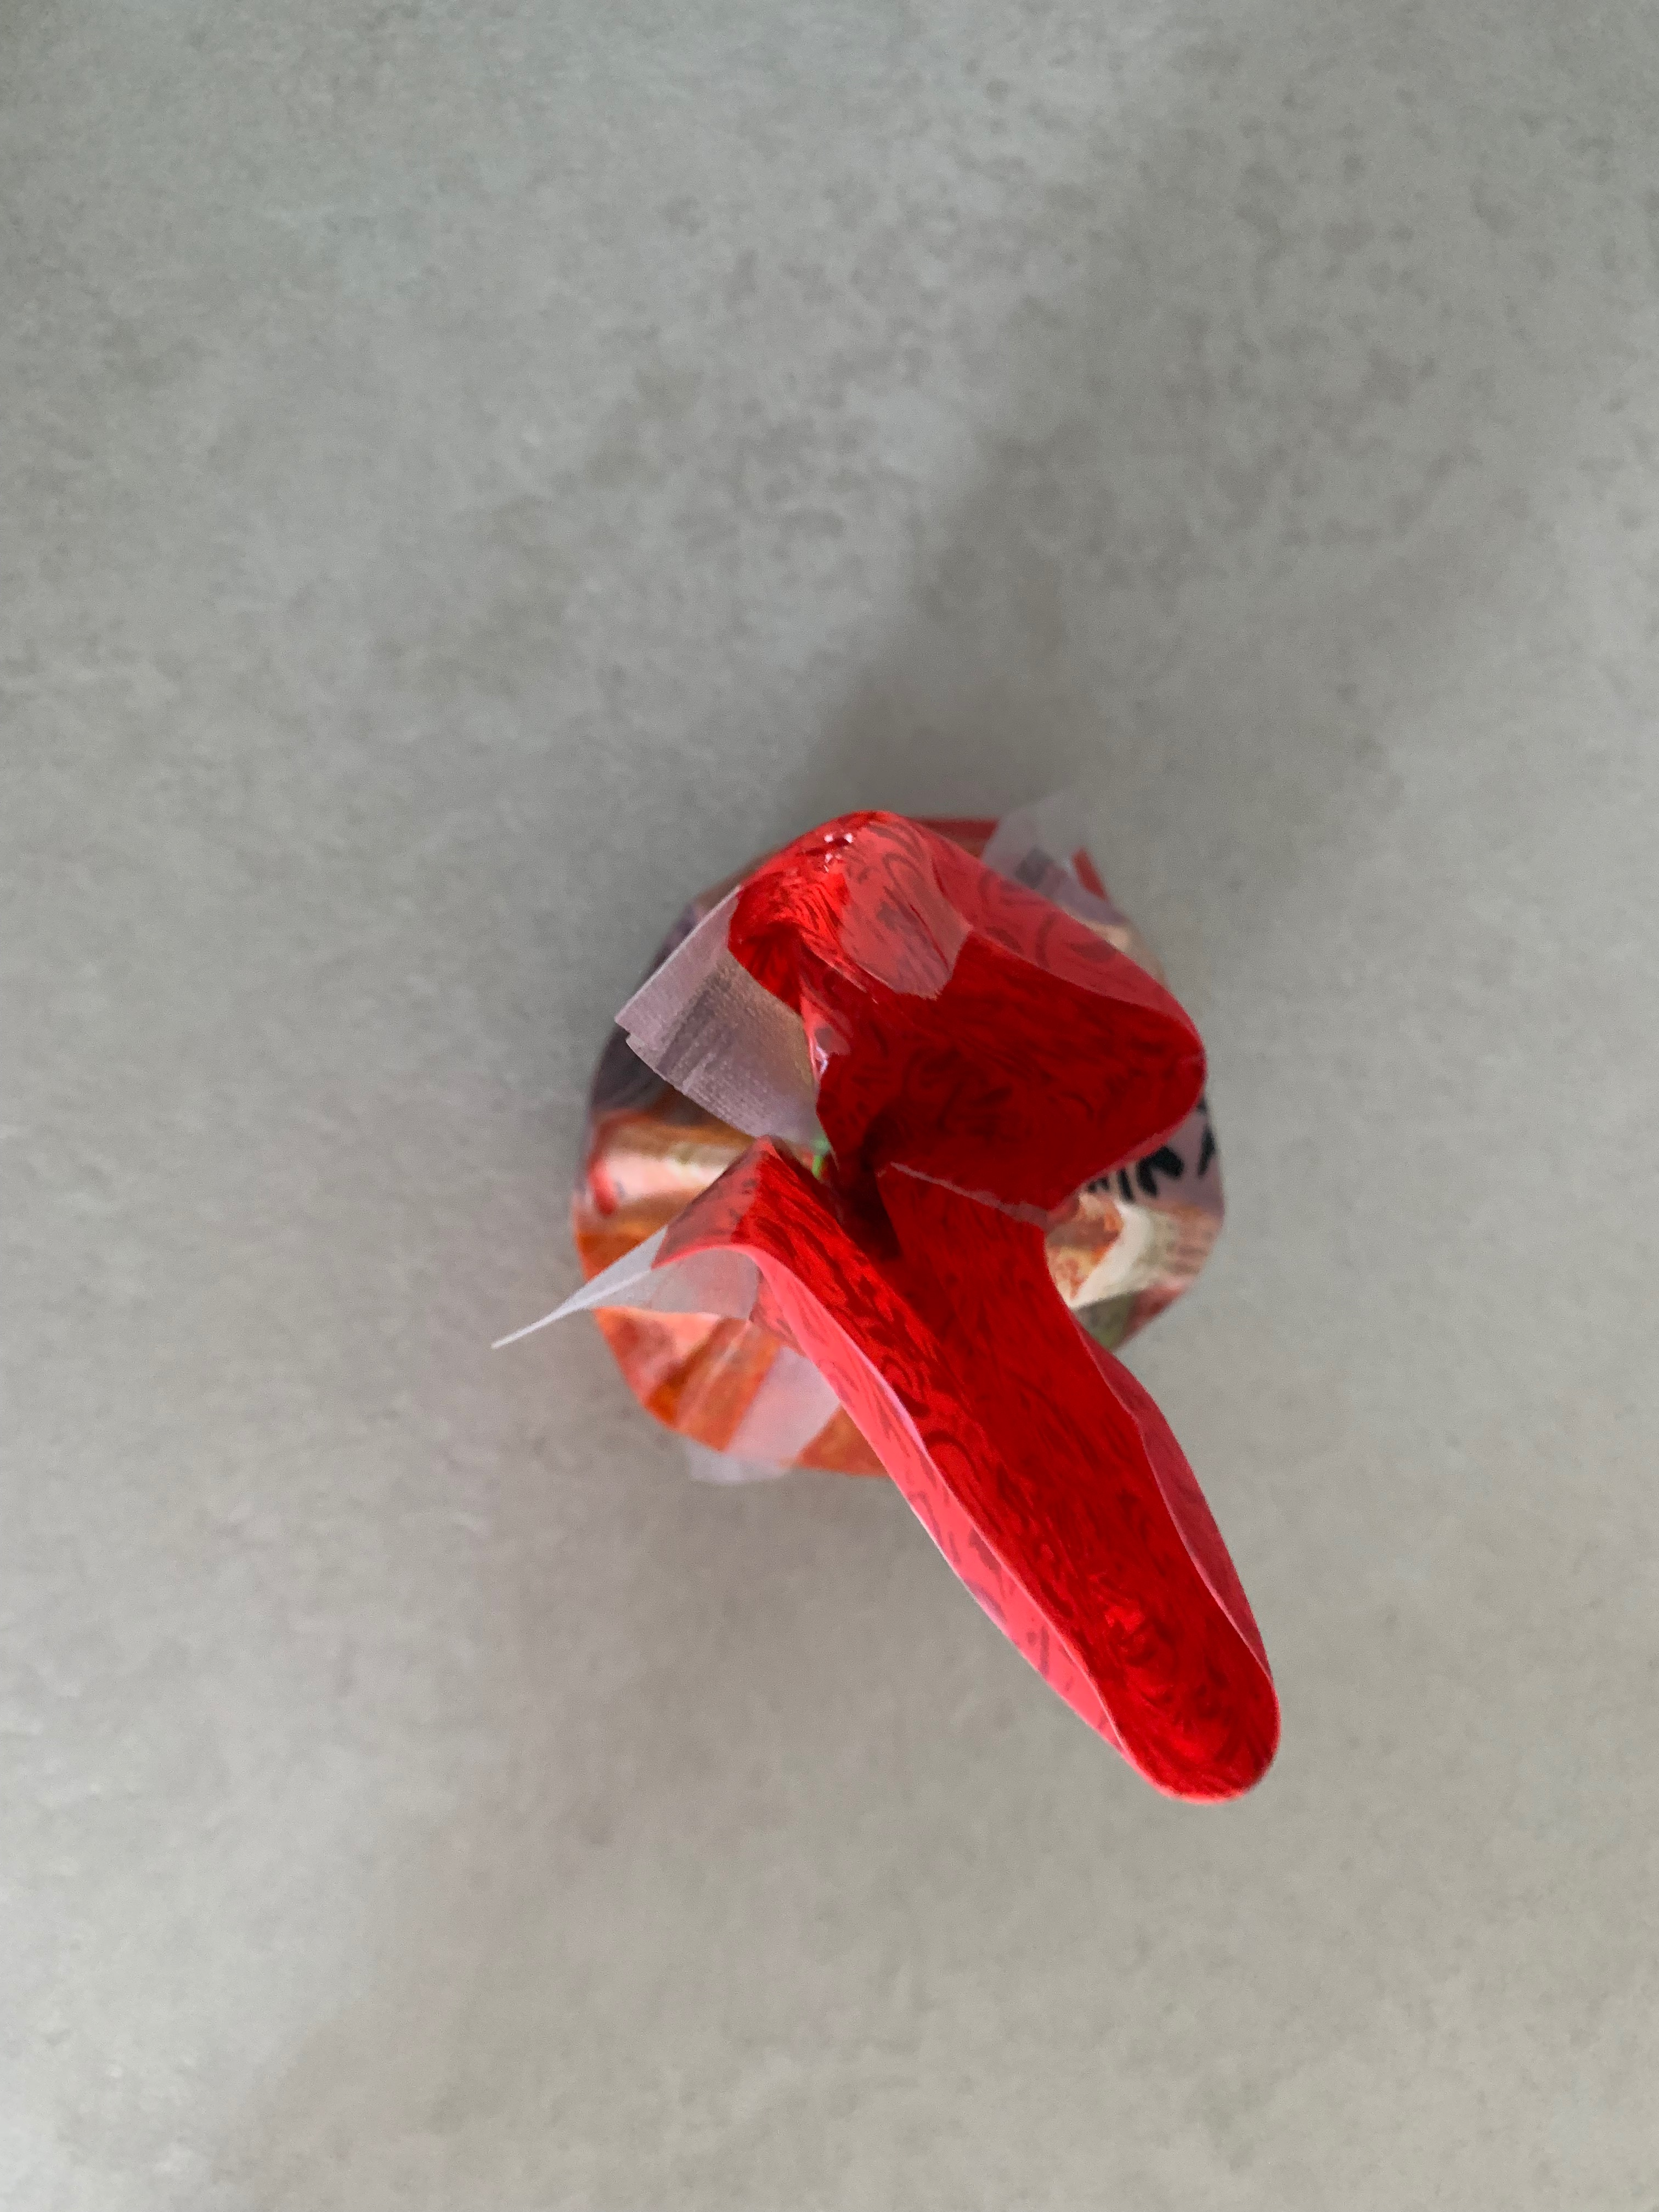kimchi: (568, 815, 1284, 1808)
